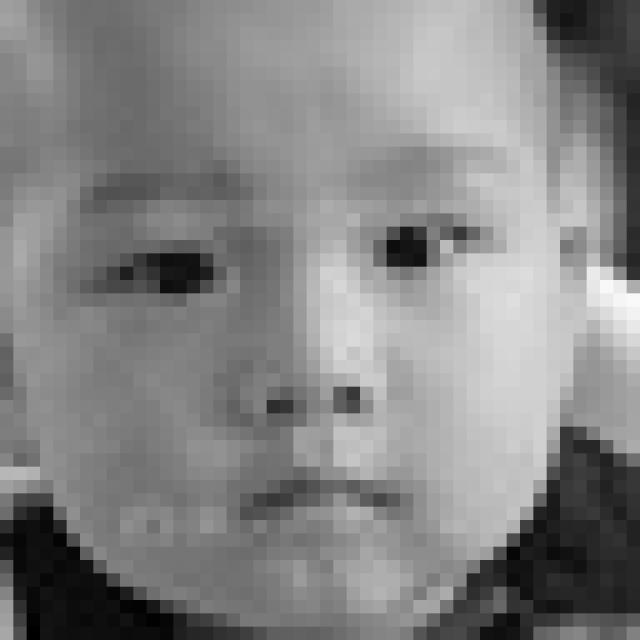neutral: (68, 134, 539, 553)
